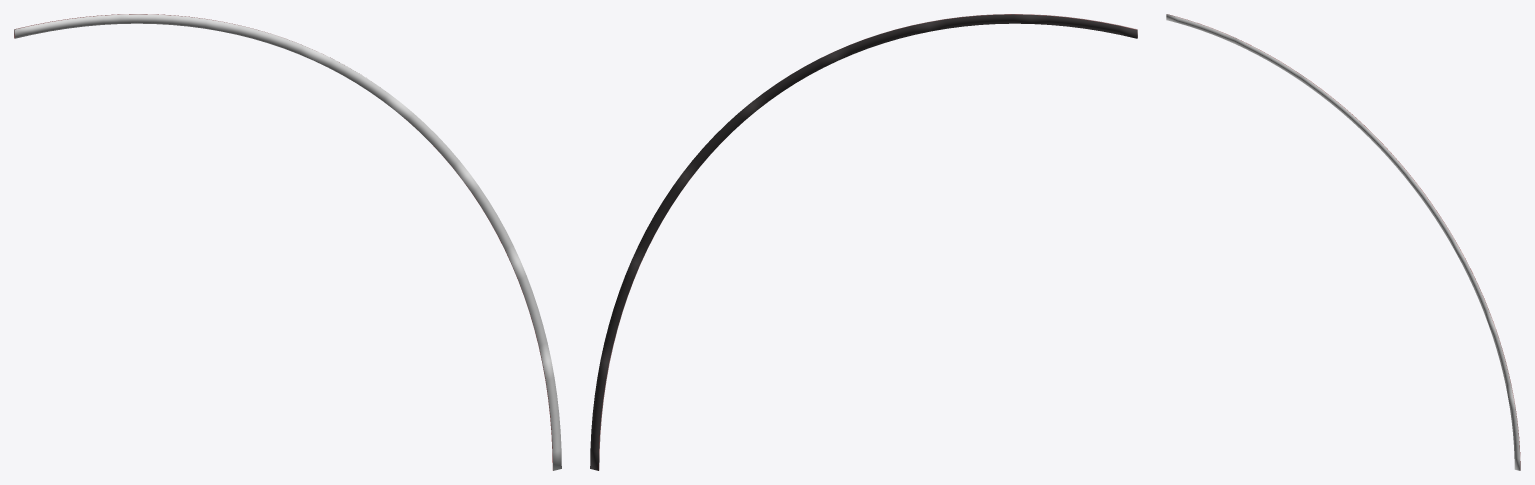
File: Rails_160m_90d_Collider.fbx
3 renders of one model, left to right at view 1: azimuth 30°, elevation 25°; view 2: azimuth 150°, elevation 25°; view 3: azimuth 330°, elevation 25°, orthographic. The views are drawn at different scales.
Parts seen in each view (by area): view 1: LP_Rails_16m_90d_Collider; view 2: LP_Rails_16m_90d_Collider; view 3: LP_Rails_16m_90d_Collider.
Boxes of the visible parts, x1=… form: LP_Rails_16m_90d_Collider: x1=14, y1=14, x2=561, y2=470; LP_Rails_16m_90d_Collider: x1=590, y1=14, x2=1137, y2=470; LP_Rails_16m_90d_Collider: x1=1166, y1=14, x2=1520, y2=470.
Bounding box in the file's own units: 103 × 103 × 0.21.
